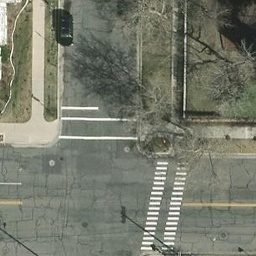car: (56, 13, 75, 47)
